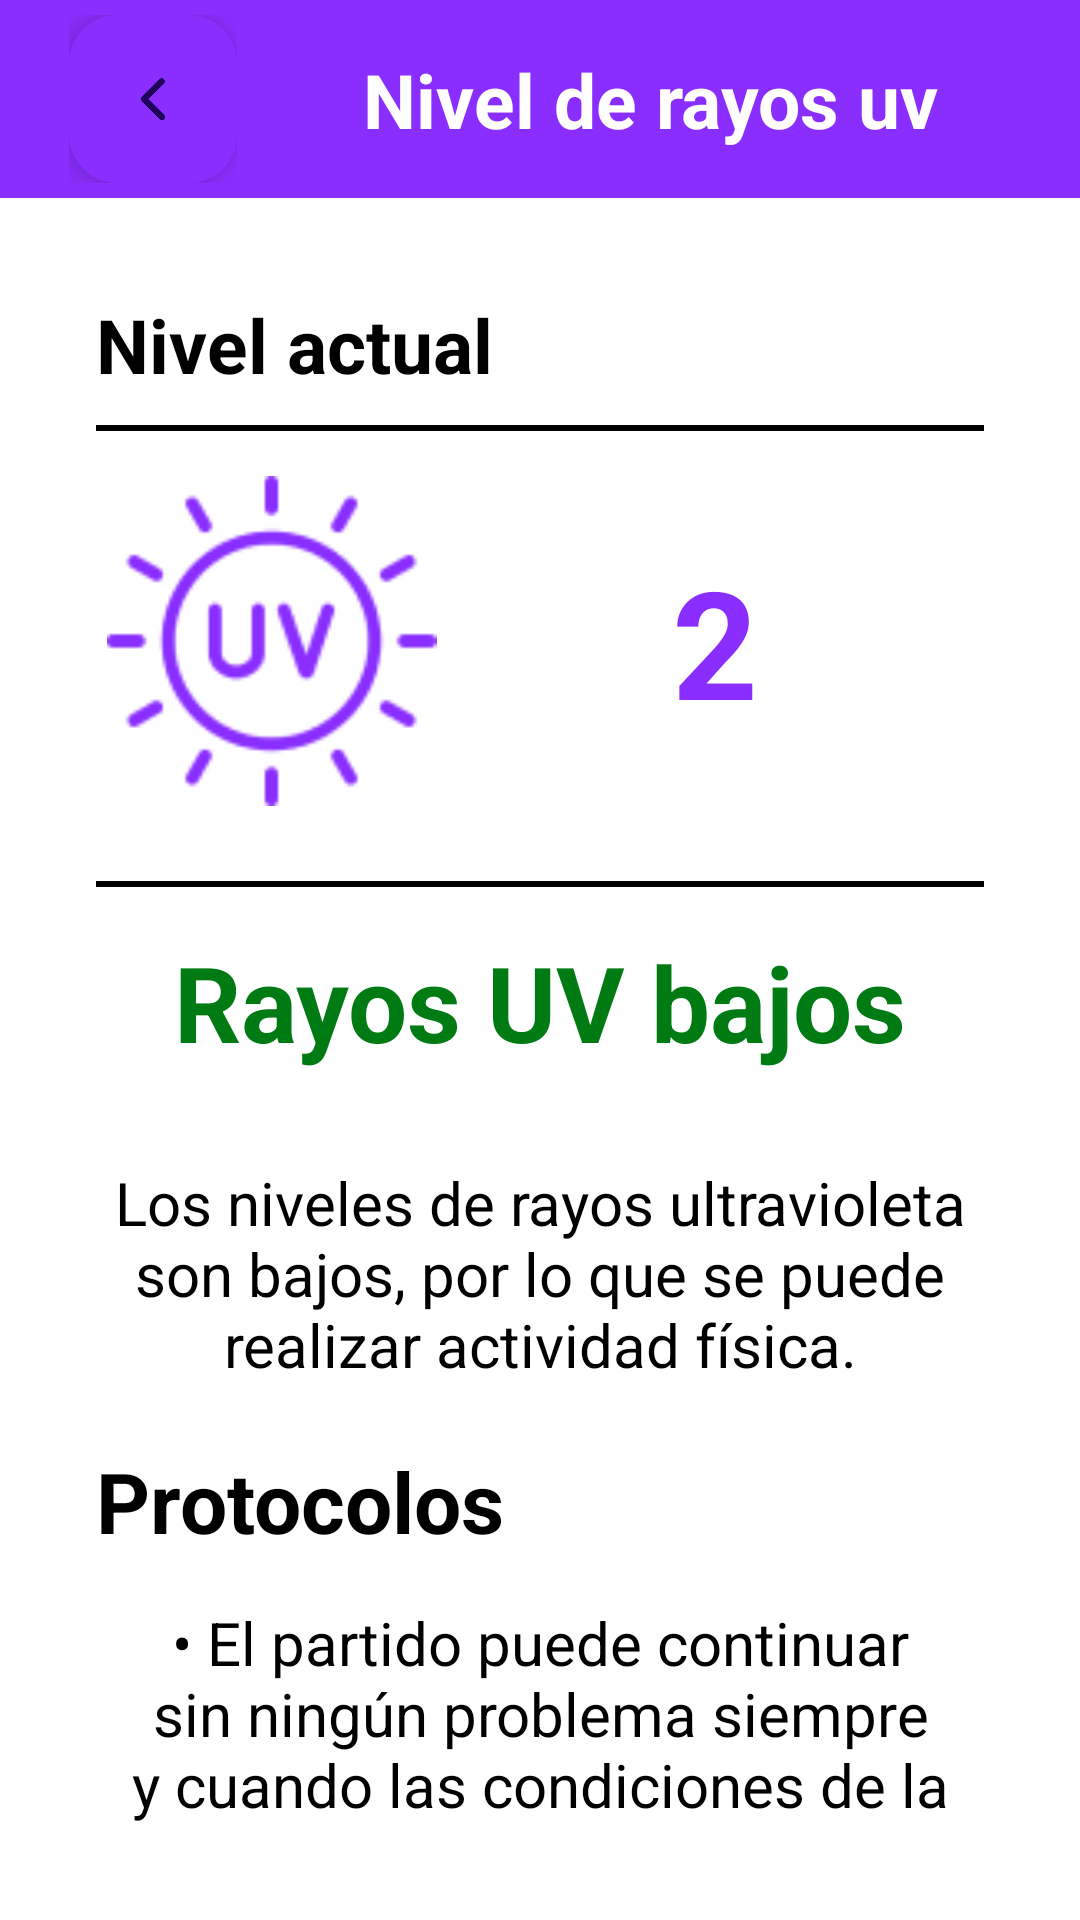

Named icons in this screenshot (1080*1920) and their bounding boxes, box=[x1, y1, x2, y2]:
back blanco: box=[69, 15, 203, 183]
rayosuvmorado: box=[107, 476, 437, 806]
